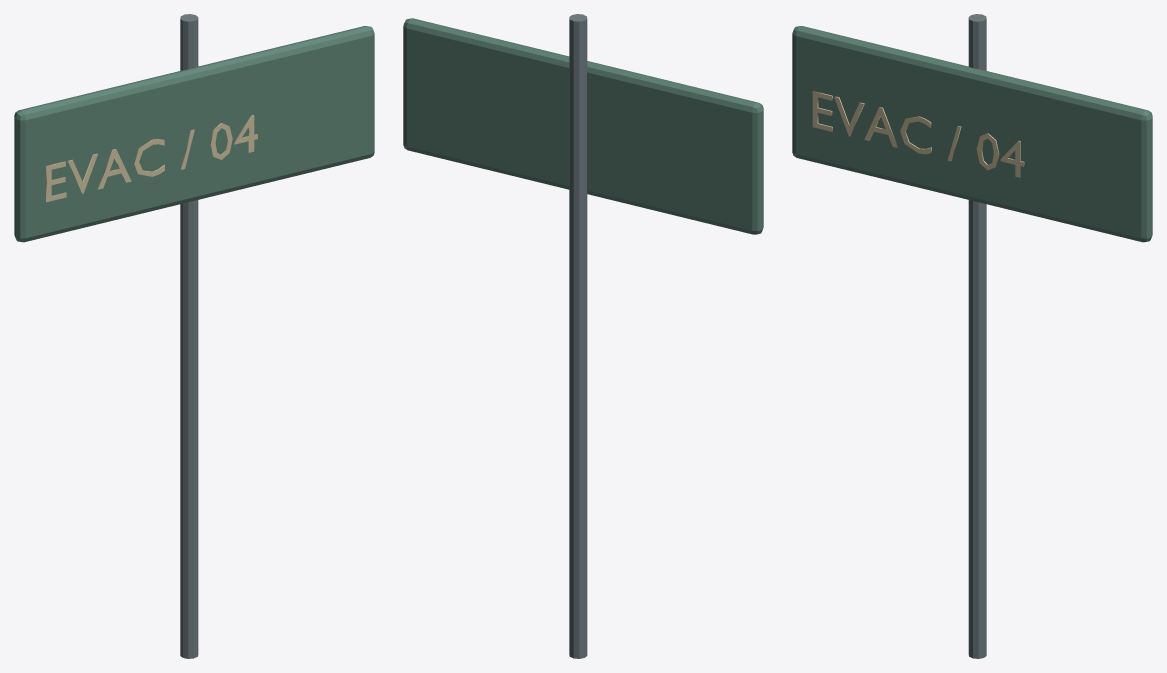
File: road-sign.glb
3 views of the same model, side by side, from view 1: azimuth 30°, elevation 25°; view 2: azimuth 150°, elevation 25°; view 3: azimuth 330°, elevation 25° (orthographic).
Visible parts, largest first — view 1: road-sign.001; view 2: road-sign.001; view 3: road-sign.001.
Part boxes in pixels (box(x1,y1,x2,y2)): road-sign.001: box(14, 14, 374, 658); road-sign.001: box(403, 14, 763, 658); road-sign.001: box(792, 14, 1152, 658).
Bounding box in the file's own units: 2 × 3.4 × 0.153.
